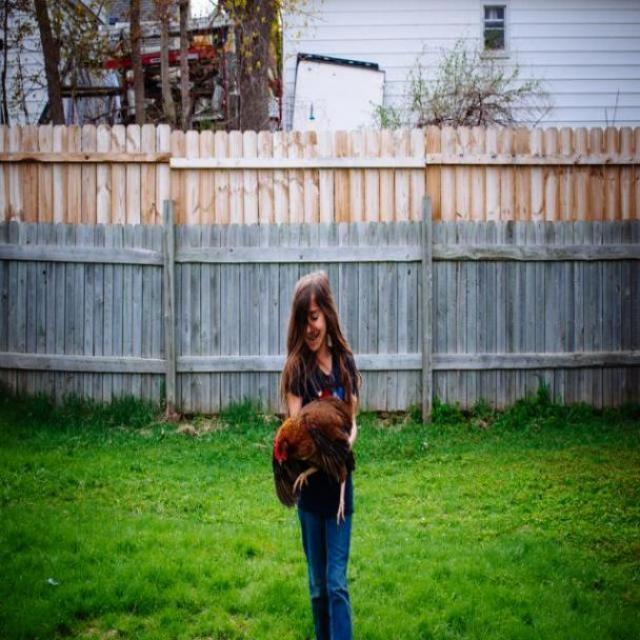Chicken: (274, 394, 356, 504)
